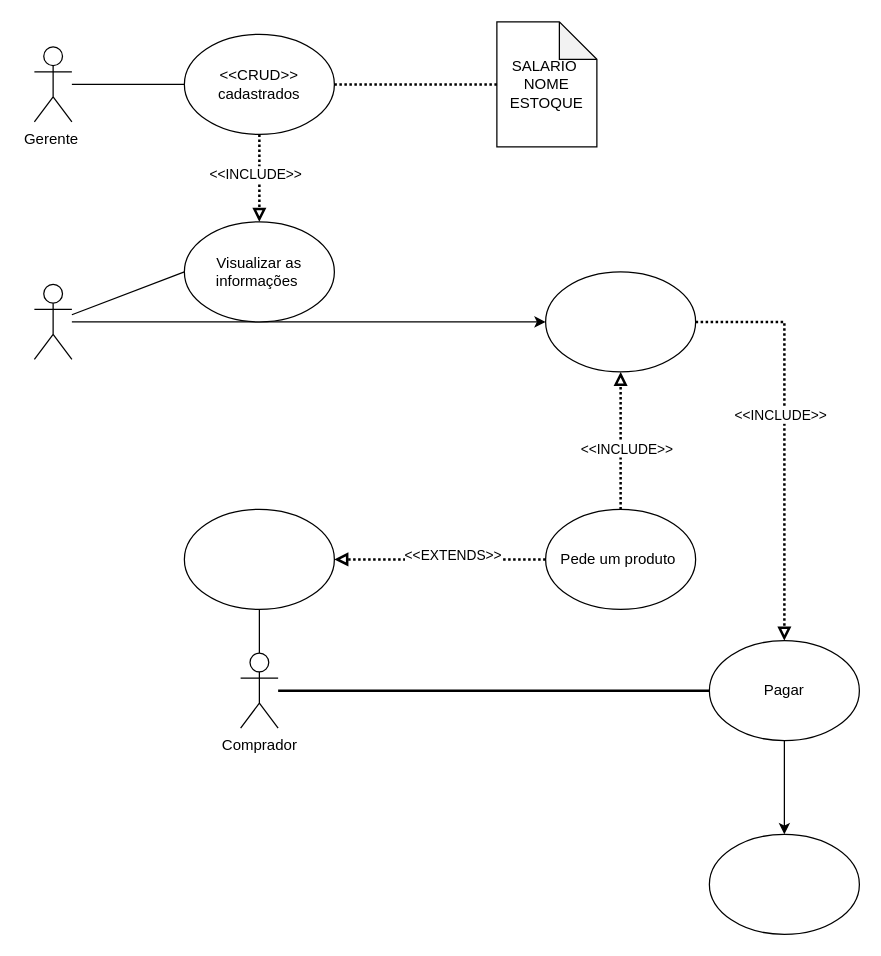
Some shapes in this 881 by 956 pixel diagram are drawn without their labels. The centre of each missing label's shape, as x and y in pixels:
"Confirma o pedido" belongs at (620,321).
"Vendedor" belongs at (52,321).
"Visualizar o estoque" belongs at (258,558).
